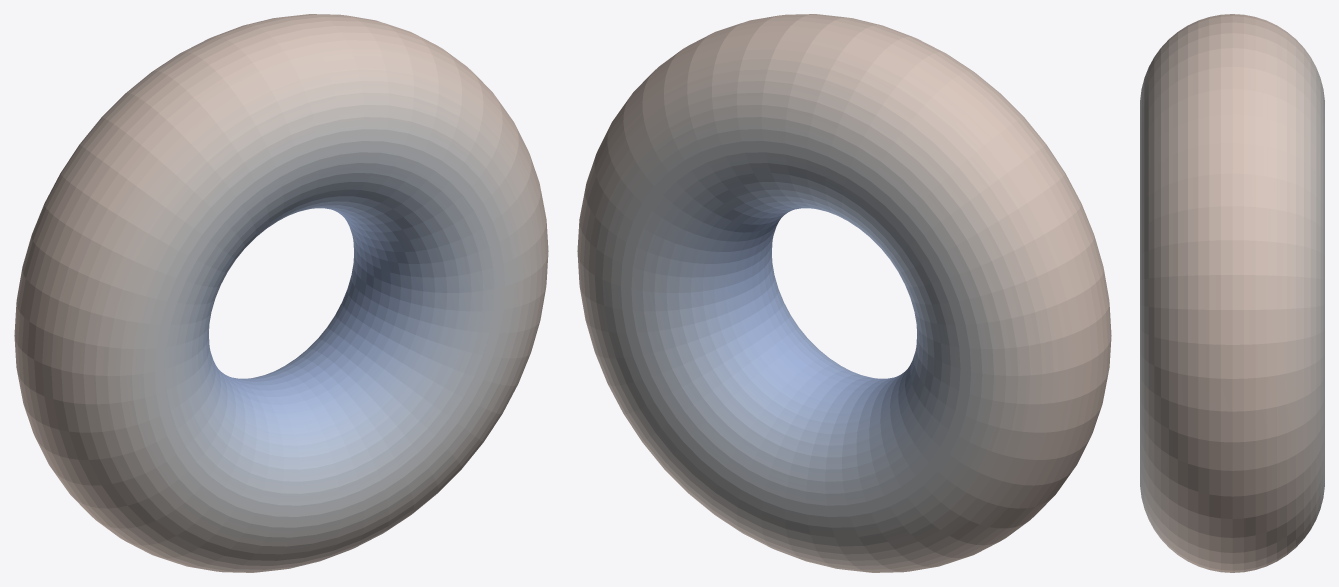
3 views of the same model, side by side, from view 1: azimuth 30°, elevation 25°; view 2: azimuth 150°, elevation 25°; view 3: azimuth 270°, elevation 25° (orthographic). The views are drawn at different scales.
Parts seen in each view (by area): view 1: world; view 2: world; view 3: world.
Part boxes in pixels (x1,y1,x2,y2): world: [14, 14, 548, 572]; world: [577, 14, 1111, 572]; world: [1140, 14, 1324, 572].
Bounding box in the file's own units: 22.93 × 22.89 × 7.59.
